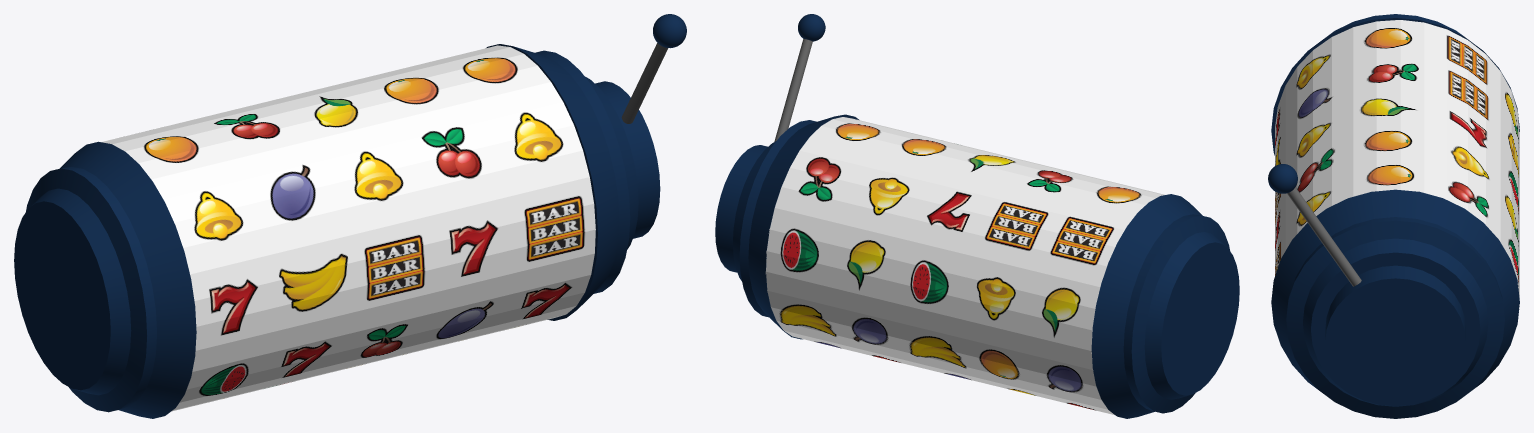
Rendered from reel_nou.gltf.
3 views of the same model, side by side, from view 1: azimuth 30°, elevation 25°; view 2: azimuth 150°, elevation 25°; view 3: azimuth 270°, elevation 25° (orthographic). The views are drawn at different scales.
Visible parts, largest first — view 1: capat, ROLA2, ROLA5, ROLA3, ROLA4, ROLA1, capat_maneta; view 2: capat, ROLA3, ROLA5, ROLA2, ROLA1, ROLA4, capat_maneta; view 3: capat_maneta, ROLA1, ROLA2, ROLA4, ROLA3, ROLA5, capat.
Boxes of the visible parts, left/top/right/bottom form: capat: left=14, top=141, right=196, bottom=418; ROLA2: left=177, top=104, right=355, bottom=395; ROLA5: left=417, top=45, right=595, bottom=336; ROLA3: left=257, top=84, right=435, bottom=375; ROLA4: left=337, top=65, right=516, bottom=355; ROLA1: left=101, top=123, right=275, bottom=411; capat_maneta: left=486, top=14, right=686, bottom=320; capat: left=1091, top=194, right=1239, bottom=418; ROLA3: left=895, top=148, right=1044, bottom=383; ROLA5: left=765, top=117, right=916, bottom=351; ROLA2: left=960, top=164, right=1111, bottom=399; ROLA1: left=1025, top=180, right=1164, bottom=414; ROLA4: left=830, top=133, right=980, bottom=367; capat_maneta: left=715, top=14, right=858, bottom=339; capat_maneta: left=1268, top=164, right=1519, bottom=418; ROLA1: left=1275, top=20, right=1519, bottom=166; ROLA2: left=1275, top=54, right=1519, bottom=200; ROLA4: left=1275, top=122, right=1519, bottom=268; ROLA3: left=1275, top=88, right=1519, bottom=234; ROLA5: left=1275, top=157, right=1519, bottom=327; capat: left=1271, top=14, right=1519, bottom=155.
Bounding box in the file's own units: 12.78 × 7.08 × 5.7.
7 materials, 5 textured.
